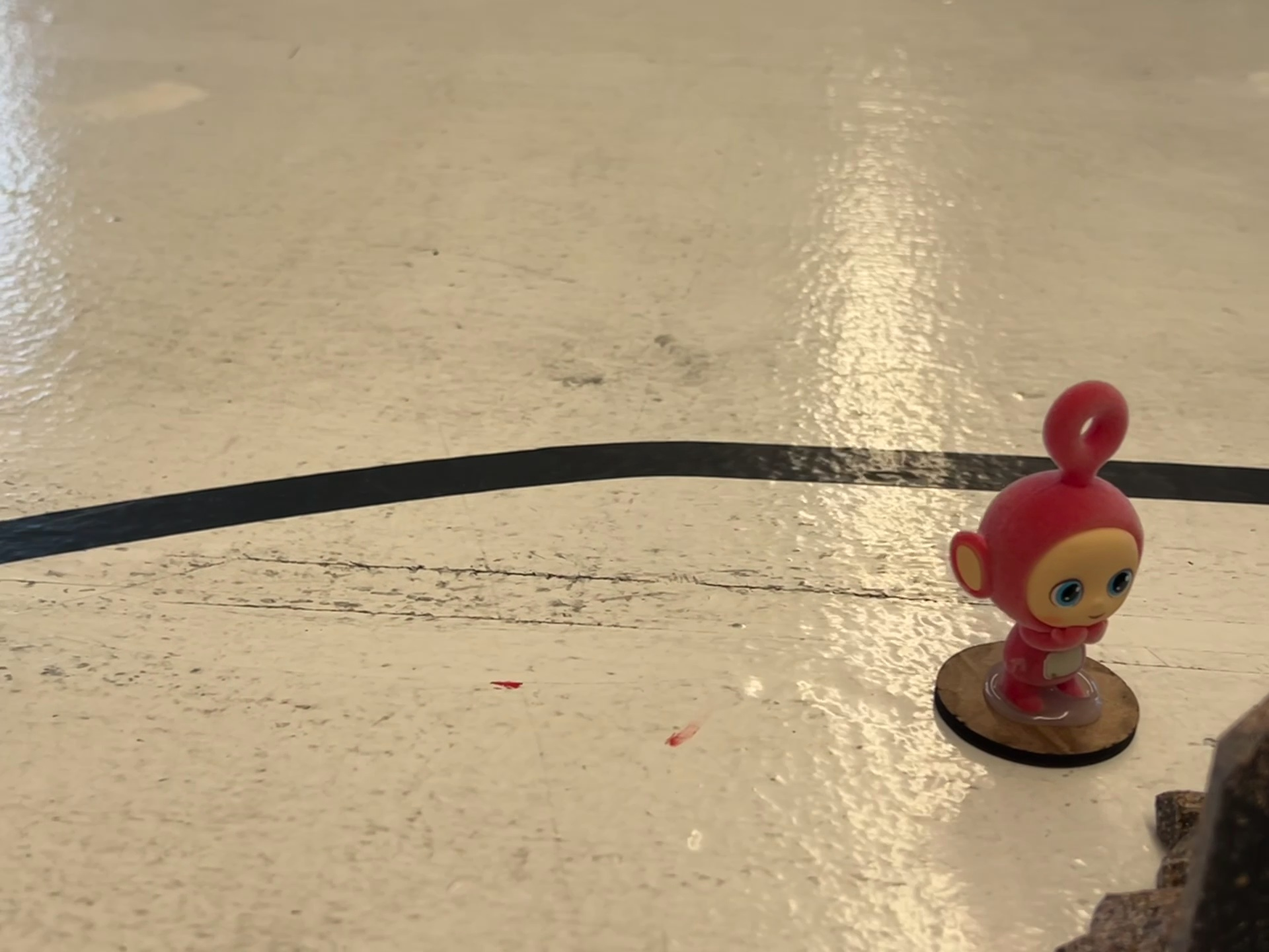teletubby: (950, 381, 1143, 713)
